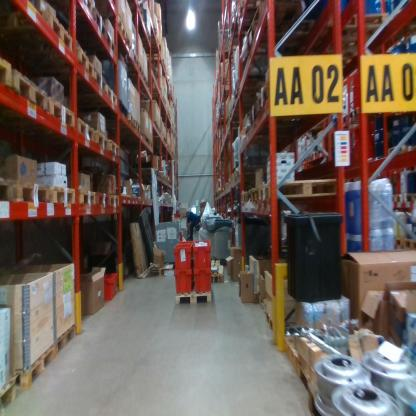pallet: (243, 11, 326, 76), (2, 6, 74, 64), (322, 9, 401, 59), (259, 174, 342, 207), (13, 341, 59, 392), (12, 60, 53, 107), (234, 5, 278, 35), (227, 79, 272, 108), (17, 172, 53, 207), (265, 304, 305, 333), (67, 40, 93, 81), (50, 93, 78, 130), (175, 285, 214, 306), (55, 323, 77, 360), (50, 179, 76, 210), (1, 374, 21, 414), (297, 359, 314, 403), (76, 111, 96, 145), (2, 168, 19, 207), (307, 387, 329, 415), (77, 186, 99, 208), (91, 64, 106, 94), (2, 55, 14, 92), (205, 264, 226, 285), (105, 82, 120, 110), (155, 260, 177, 278), (96, 128, 111, 154), (388, 141, 409, 159), (105, 26, 118, 55), (69, 0, 95, 14), (97, 180, 109, 208), (93, 9, 108, 30), (108, 136, 125, 154), (388, 234, 408, 248), (108, 190, 121, 211), (349, 107, 365, 124), (208, 257, 227, 270), (405, 228, 415, 251), (402, 185, 414, 204), (251, 183, 260, 205), (240, 187, 251, 205), (340, 109, 349, 128), (317, 145, 326, 158), (393, 193, 401, 207), (306, 151, 312, 166), (249, 189, 252, 205), (313, 147, 317, 158)
small_load_carrier: (98, 269, 120, 308), (172, 265, 193, 297), (193, 266, 214, 297), (172, 241, 194, 269), (194, 239, 214, 266)
